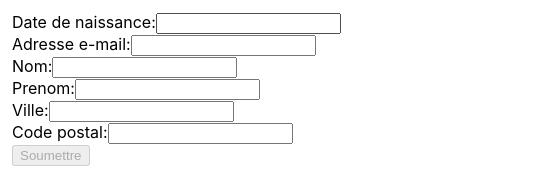
it: Form component › displays error messages for invalid data
Type "invalid-date" into the field labelled "Date de naissance:" at (248, 24), box [156,13,341,34]
Type "invalid-email" into the field labelled "Adresse e-mail:" at (223, 46), box [131,35,316,56]
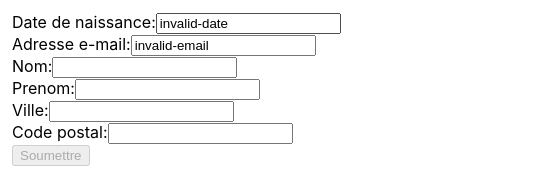
Type "123" into the field labelled "Nom:" at (145, 68), box [52,57,237,78]
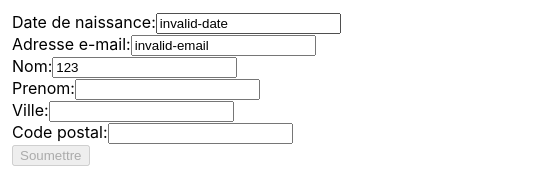
Type "456" into the field labelled "Prenom:" at (168, 90), box [75,79,260,100]
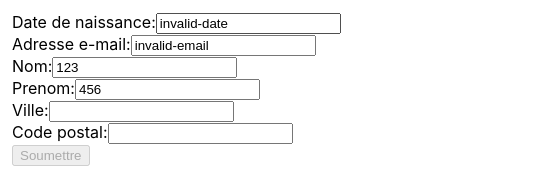
Type "789" into the field labelled "Ville:" at (141, 112), box [49,101,234,122]
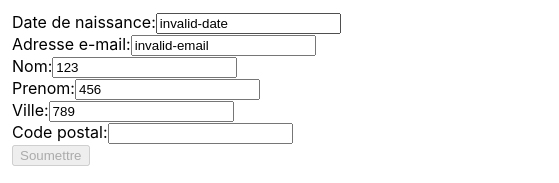
Type "invalid-code" into the field labelled "Code postal:" at (200, 134), box [108,123,292,144]
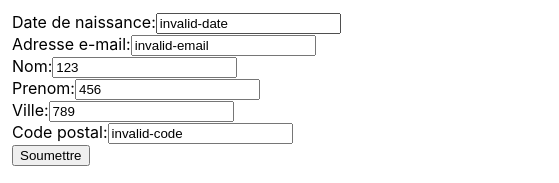
Click the button "Soumettre" at (51, 156), box [12,145,90,166]
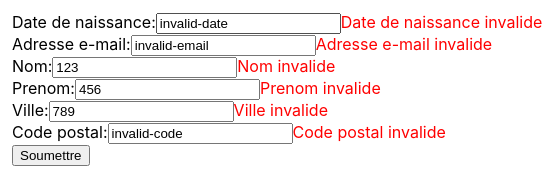
Expected: the text "Date de naissance invalide" is shown, [341,12,542,32]
Expected: the text "Adresse e-mail invalide" is shown, [316,34,492,54]
Expected: the text "Nom invalide" is shown, [237,56,335,76]
